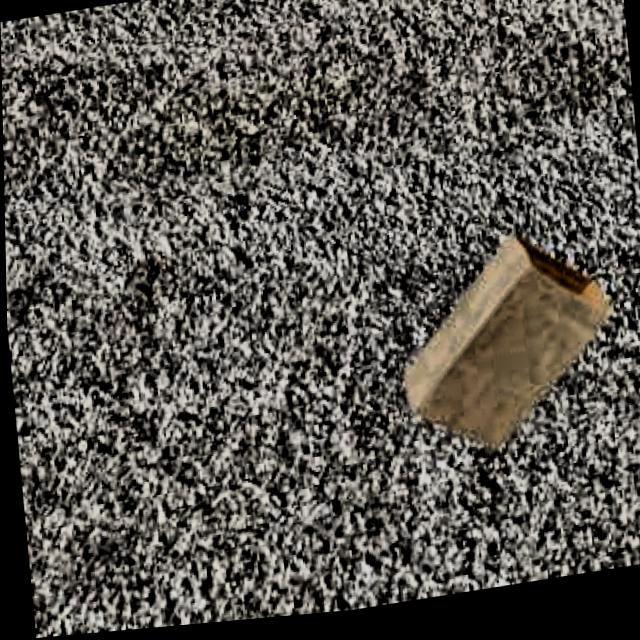Paper-bag: (377, 225, 640, 502)
